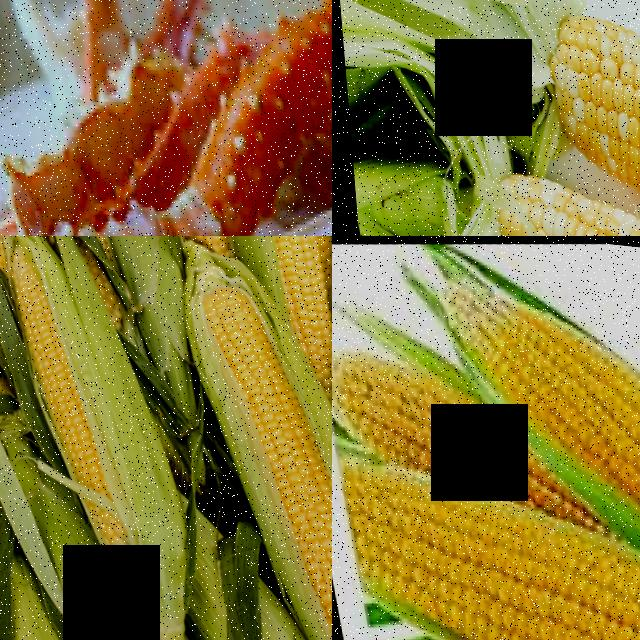corn: (200, 267, 332, 640), (466, 264, 640, 525), (2, 236, 123, 552), (332, 327, 527, 500), (332, 450, 495, 640), (462, 476, 640, 640), (537, 0, 640, 236), (233, 236, 332, 389)
crab: (0, 0, 332, 236)
